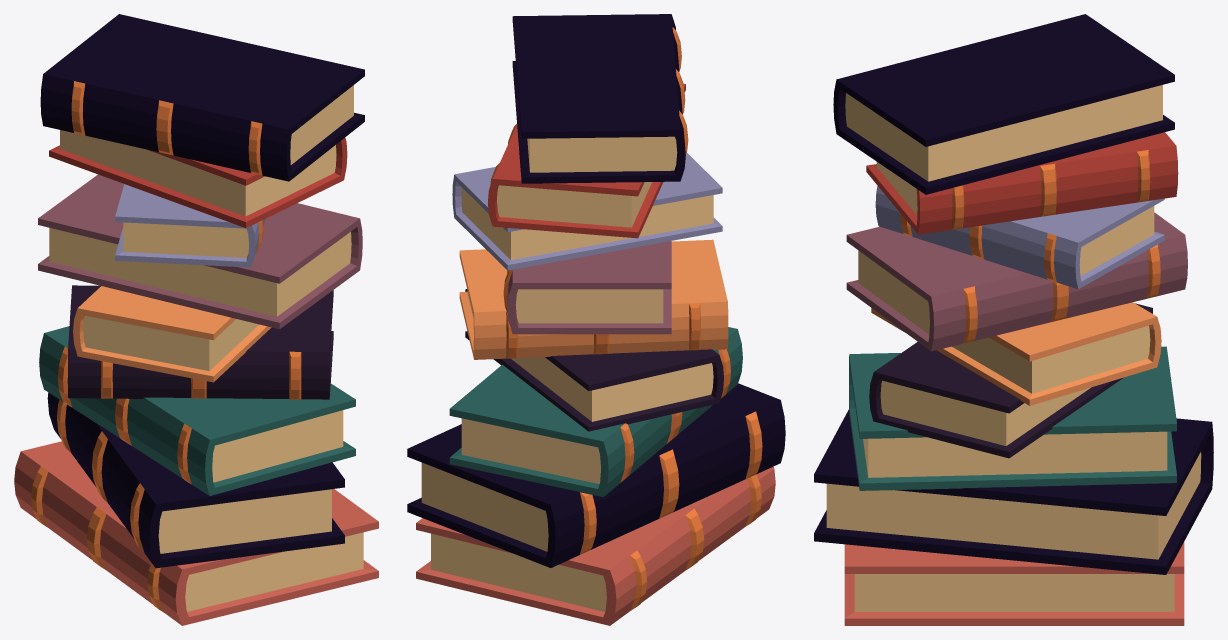
The model's file is Livres.fbx.
The picture shows the model from 3 angles, left to right: view 1: azimuth 30°, elevation 25°; view 2: azimuth 150°, elevation 25°; view 3: azimuth 270°, elevation 25°; orthographic projection. The views are drawn at different scales.
Visible parts, largest first — view 1: Livre.008, Livre.005, Livre, Livre.001, Livre.002, Livre.003, Livre.007, Livre.004, Livre.006; view 2: Livre.008, Livre.001, Livre, Livre.002, Livre.004, Livre.005, Livre.003, Livre.006, Livre.007; view 3: Livre.008, Livre.001, Livre.002, Livre, Livre.005, Livre.007, Livre.003, Livre.004, Livre.006.
Part boxes in pixels (x1,y1,x2,y2): Livre.008: [40, 14, 364, 181]; Livre.005: [38, 174, 362, 329]; Livre: [14, 441, 378, 625]; Livre.001: [47, 392, 344, 568]; Livre.002: [39, 326, 355, 495]; Livre.003: [68, 285, 333, 399]; Livre.007: [49, 130, 347, 227]; Livre.004: [73, 286, 271, 382]; Livre.006: [115, 184, 266, 267]; Livre.008: [512, 14, 688, 183]; Livre.001: [407, 383, 785, 567]; Livre: [416, 466, 775, 625]; Livre.002: [449, 327, 742, 497]; Livre.004: [459, 239, 728, 359]; Livre.005: [503, 241, 671, 334]; Livre.003: [465, 289, 723, 431]; Livre.006: [452, 153, 722, 270]; Livre.007: [487, 84, 685, 238]; Livre.008: [833, 14, 1174, 194]; Livre.001: [814, 409, 1213, 574]; Livre.002: [849, 346, 1176, 490]; Livre: [844, 542, 1184, 625]; Livre.005: [846, 212, 1187, 351]; Livre.007: [866, 132, 1178, 234]; Livre.003: [869, 303, 1152, 458]; Livre.004: [871, 302, 1161, 405]; Livre.006: [875, 186, 1164, 289].
Size of the model in its own units: 118 by 202 by 147.
